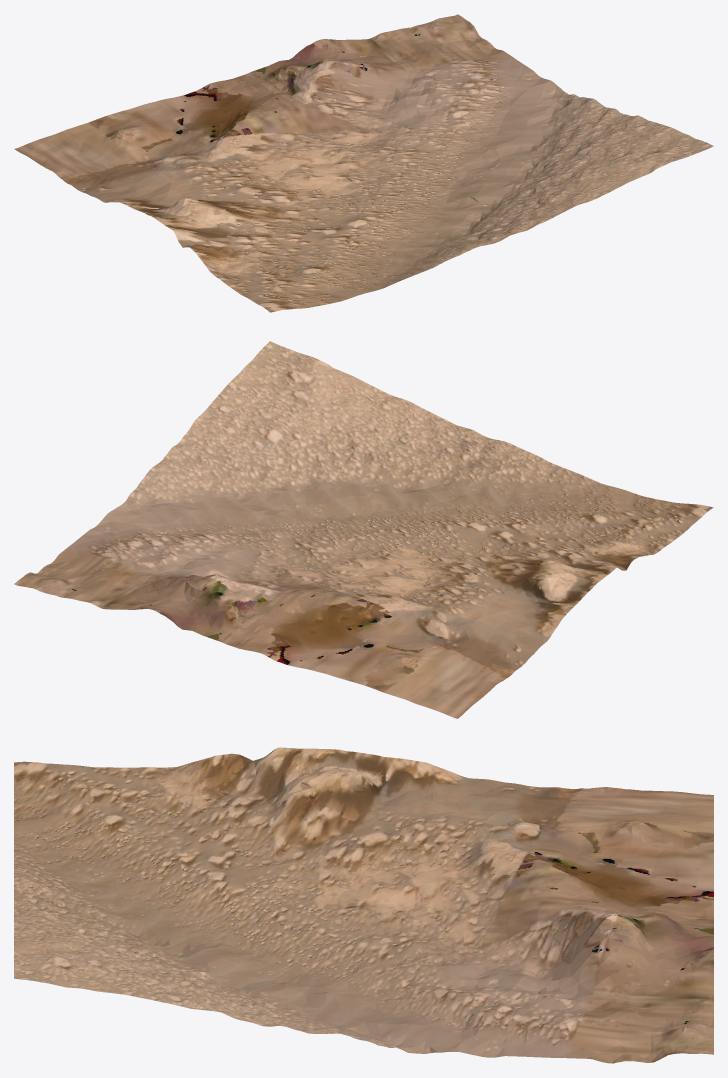
The picture shows the model from 3 angles, top to bottom: view 1: azimuth 30°, elevation 25°; view 2: azimuth 150°, elevation 25°; view 3: azimuth 270°, elevation 25°; orthographic projection. The views are drawn at different scales.
Bounding box in the file's own units: 1.04 × 0.1847 × 1.04.
2 materials, 2 textured.
